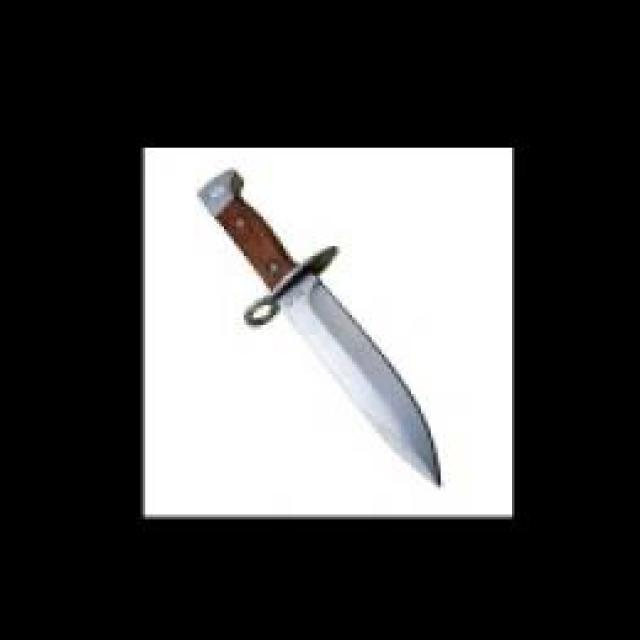knife: (192, 165, 447, 493)
